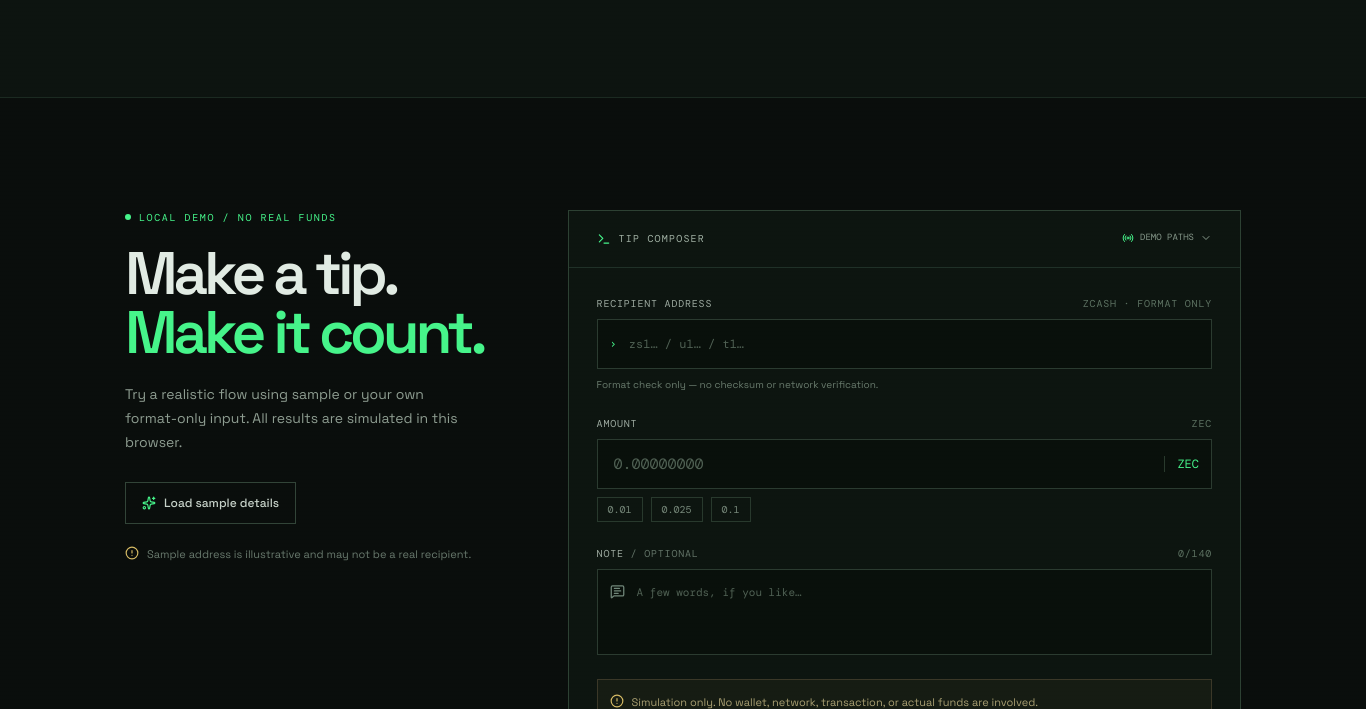
ZecTip demo flow › shows a clear error for an invalid recipient before opening review
The image size is (1366, 709).
(page scrolled)
Type "not-a-zcash-address" into the field labelled "RECIPIENT ADDRESS ZCASH · FORMAT ONLY" at (920, 344), box [629,320,1211,368]
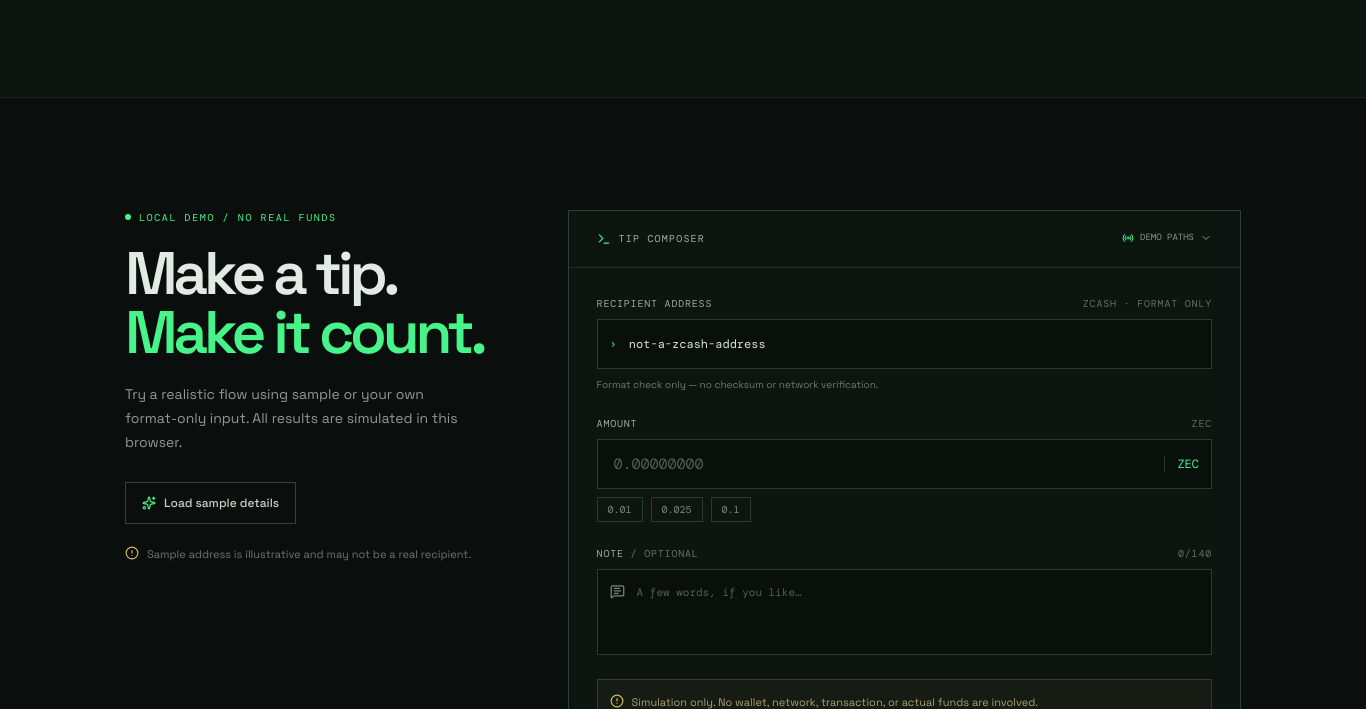
Type "0.025" into the field labelled "AMOUNT ZEC" at (881, 464), box [598,440,1164,488]
(page scrolled)
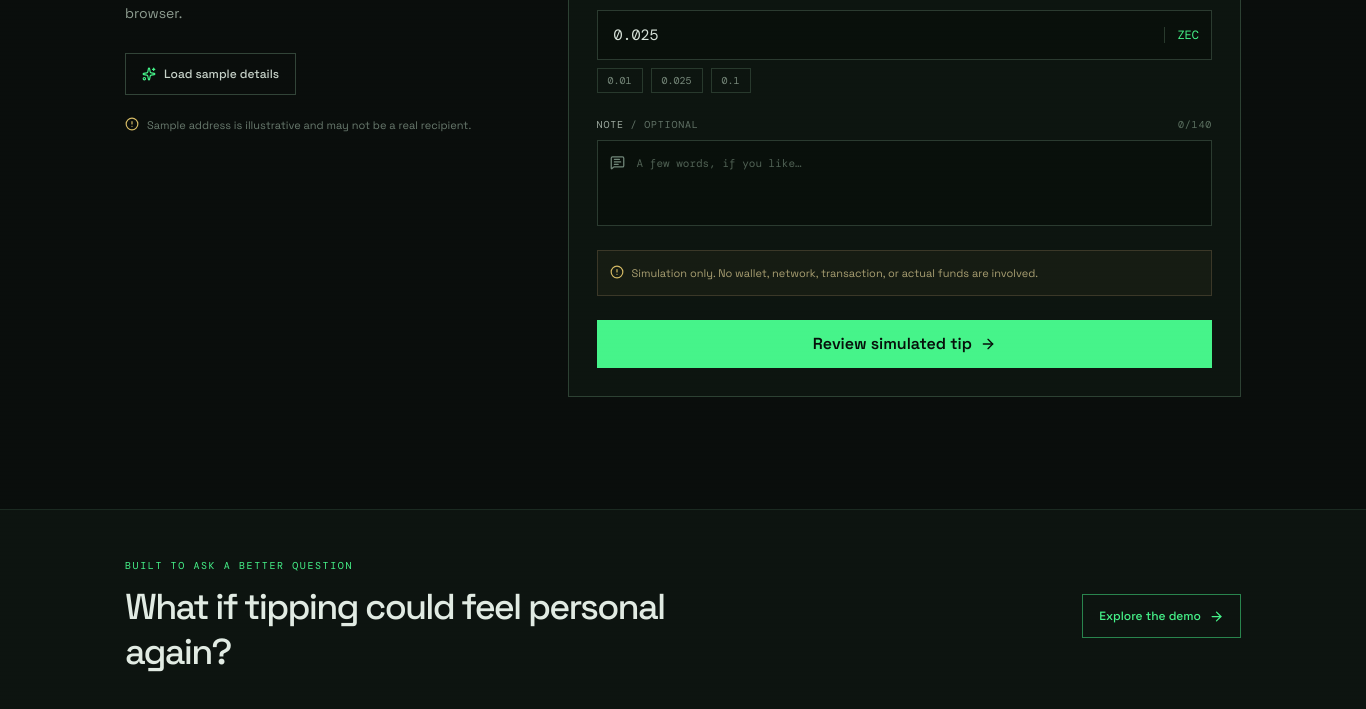
Click the button with test id "button-review-tip" at (904, 344), box [597,320,1212,368]
(page scrolled)
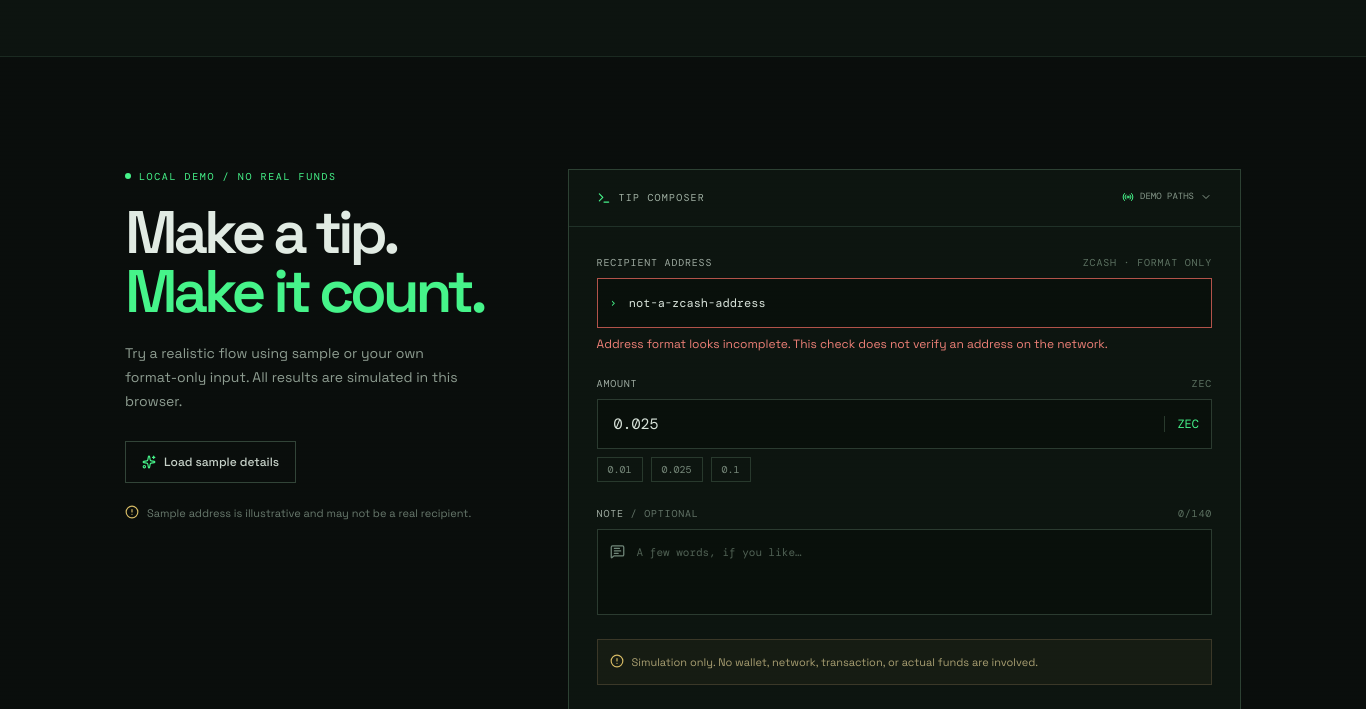
Expected: the message with test id "error-recipient" shows "format looks incomplete", [597,336,1108,352]
